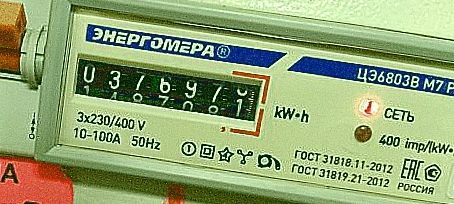0: (78, 60, 97, 83)
1: (231, 96, 245, 118)
3: (105, 66, 122, 91)
6: (157, 71, 172, 94)
7: (131, 67, 147, 92), (207, 79, 223, 104)
9: (181, 76, 197, 99)
screen: (62, 45, 272, 140)
